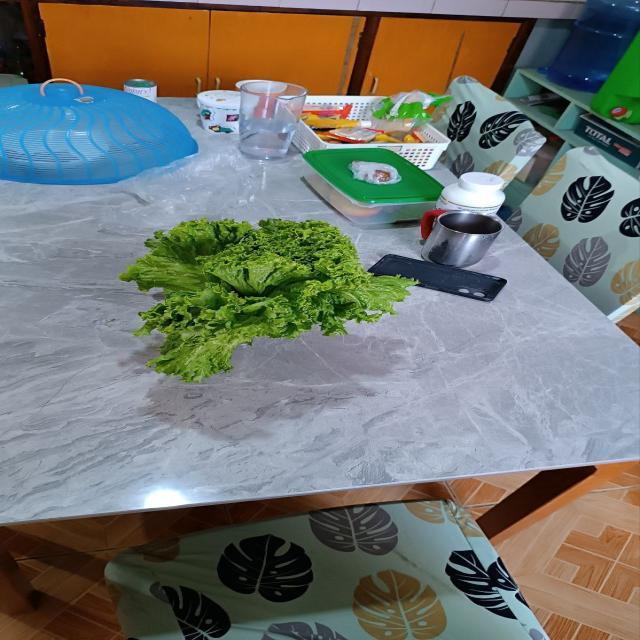Lettuce-Ready-to-Harvest: (120, 219, 411, 381)
